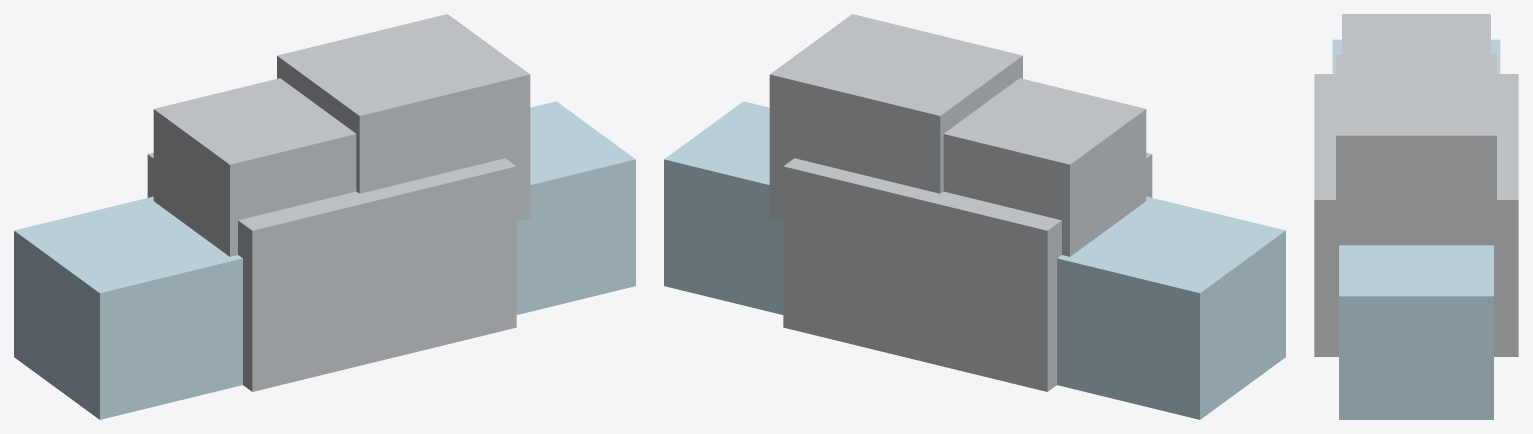
Rendered from soft-cloud.glb.
3 views of the same model, side by side, from view 1: azimuth 30°, elevation 25°; view 2: azimuth 150°, elevation 25°; view 3: azimuth 270°, elevation 25° (orthographic). The views are drawn at different scales.
Parts seen in each view (by area): view 1: soft-cloud-f7fbff, soft-cloud-cfe8f3; view 2: soft-cloud-f7fbff, soft-cloud-cfe8f3; view 3: soft-cloud-f7fbff, soft-cloud-cfe8f3.
Part boxes in pixels (box(x1,y1,x2,y2)): soft-cloud-f7fbff: box(147, 14, 530, 391); soft-cloud-cfe8f3: box(14, 101, 635, 419); soft-cloud-f7fbff: box(769, 14, 1152, 391); soft-cloud-cfe8f3: box(664, 101, 1285, 419); soft-cloud-f7fbff: box(1314, 14, 1518, 356); soft-cloud-cfe8f3: box(1332, 39, 1500, 419).
Size of the model in its own units: 4.9 by 2.08 by 1.65.
